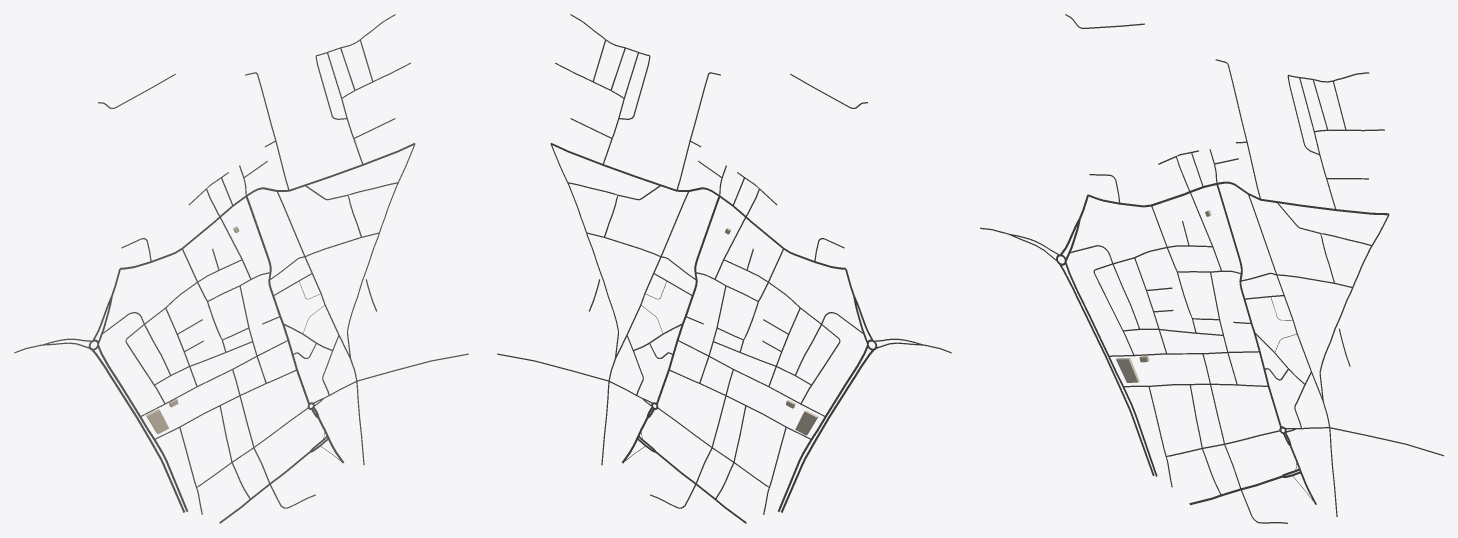
The model's file is zarqa_3606_3213.glb.
3 renders of one model, left to right at view 1: azimuth 30°, elevation 25°; view 2: azimuth 150°, elevation 25°; view 3: azimuth 330°, elevation 25°, orthographic. The views are drawn at different scales.
Parts seen in each view (by area): view 1: Road .006, Road .025; view 2: Road .006, Road .025; view 3: Road .006, Road .025.
Part boxes in pixels (x1,y1,x2,y2): Road .006: (120, 143, 415, 269); Road .025: (277, 191, 364, 465); Road .006: (550, 143, 845, 269); Road .025: (601, 192, 688, 465); Road .006: (1088, 181, 1388, 215); Road .025: (1248, 194, 1337, 516).
Size of the model in its own units: 1203 by 1184 by 8.7.
